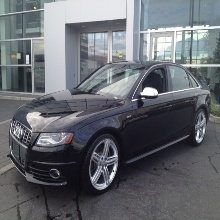no damage: (9, 62, 212, 193)
